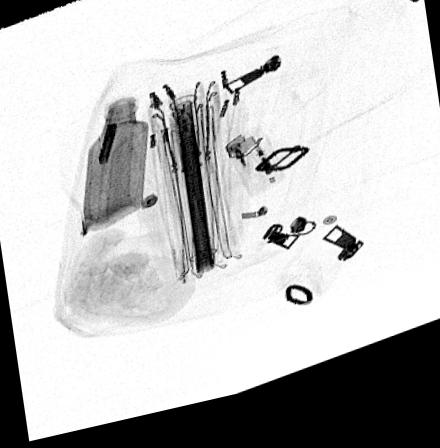Lighter: (225, 139, 288, 209)
